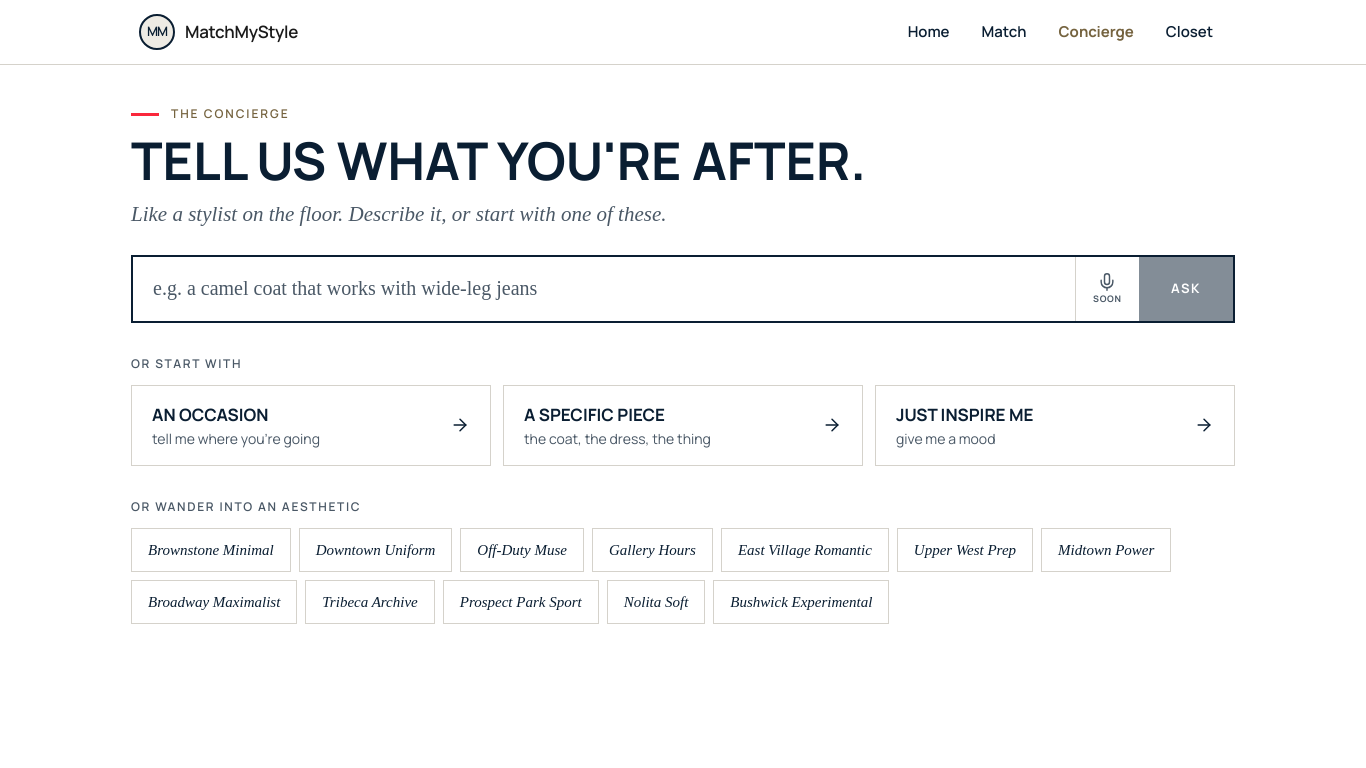
Test: aesthetic chip › clicking a chip searches once per piece and never calls concierge-plan
Click the button "Brownstone Minimal".
click(211, 550)  # box top-left (131, 528), bottom-right (291, 572)
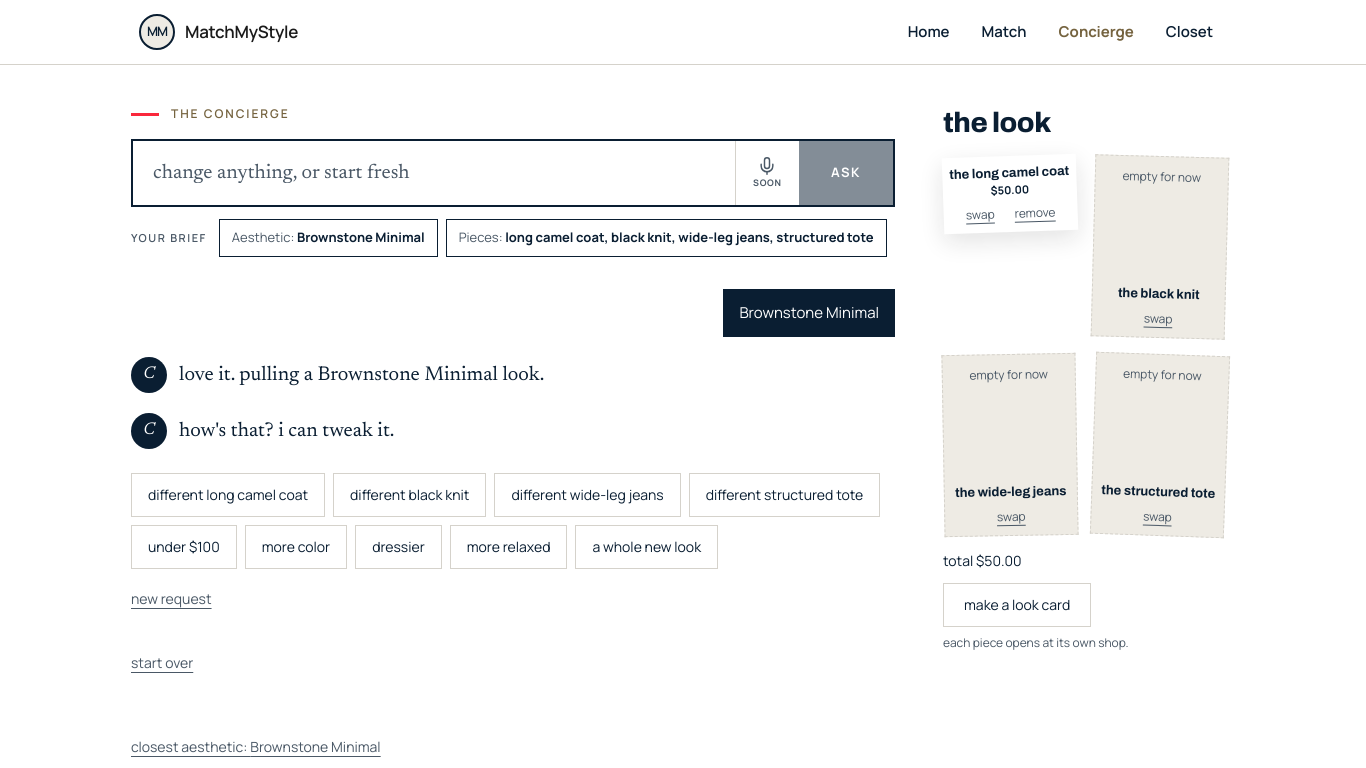
Result: the text "love it. pulling a Brownstone Minimal look." is shown at top-left (178, 364), bottom-right (544, 384)
